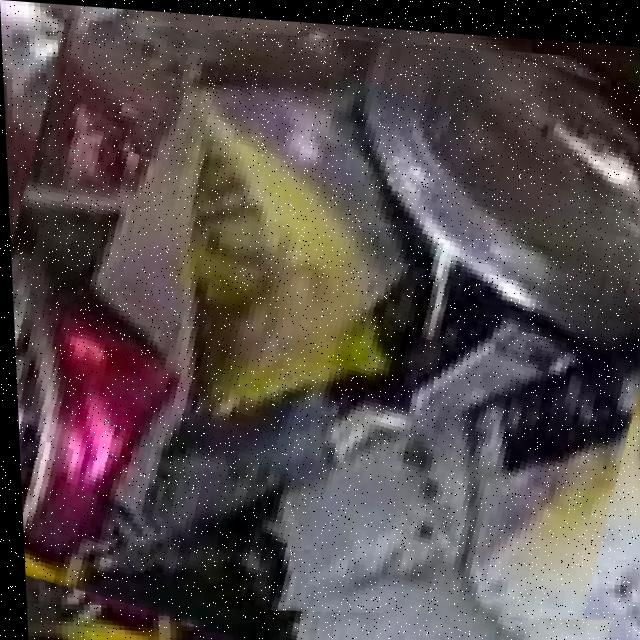litter: (9, 36, 640, 607)
